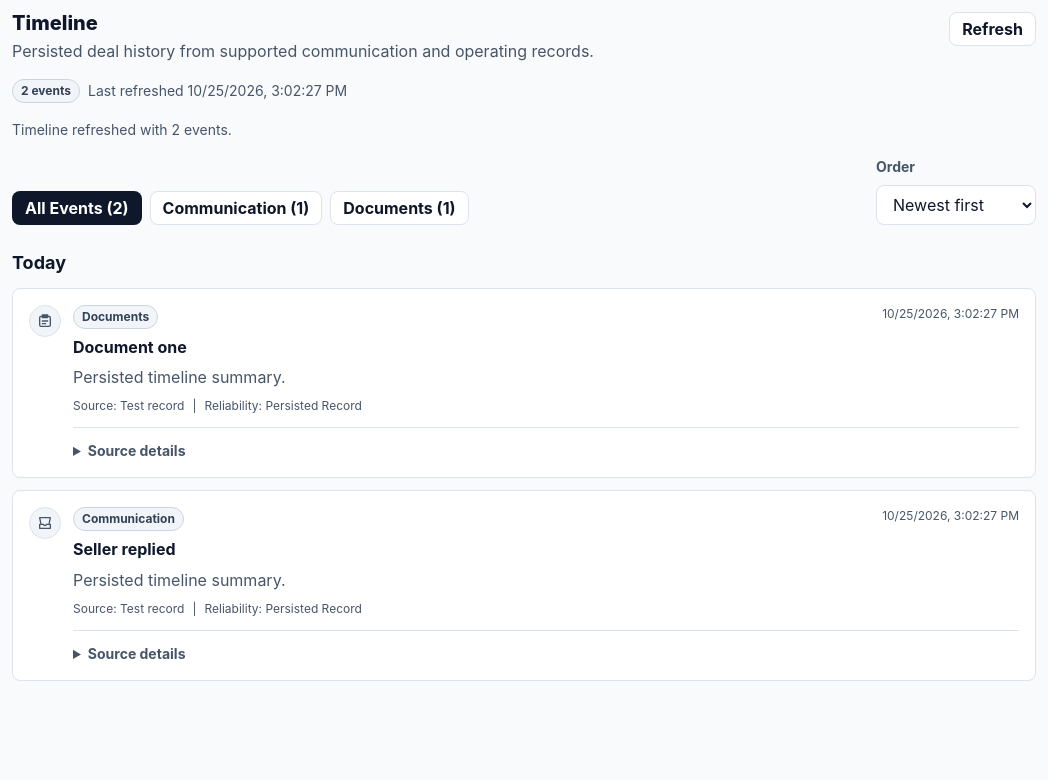
Test case: DealTimeline › refreshes in place and preserves a supported category selection
The image size is (1048, 780).
Click the button "Documents (1)".
click(399, 208)  # box [330,191,469,225]
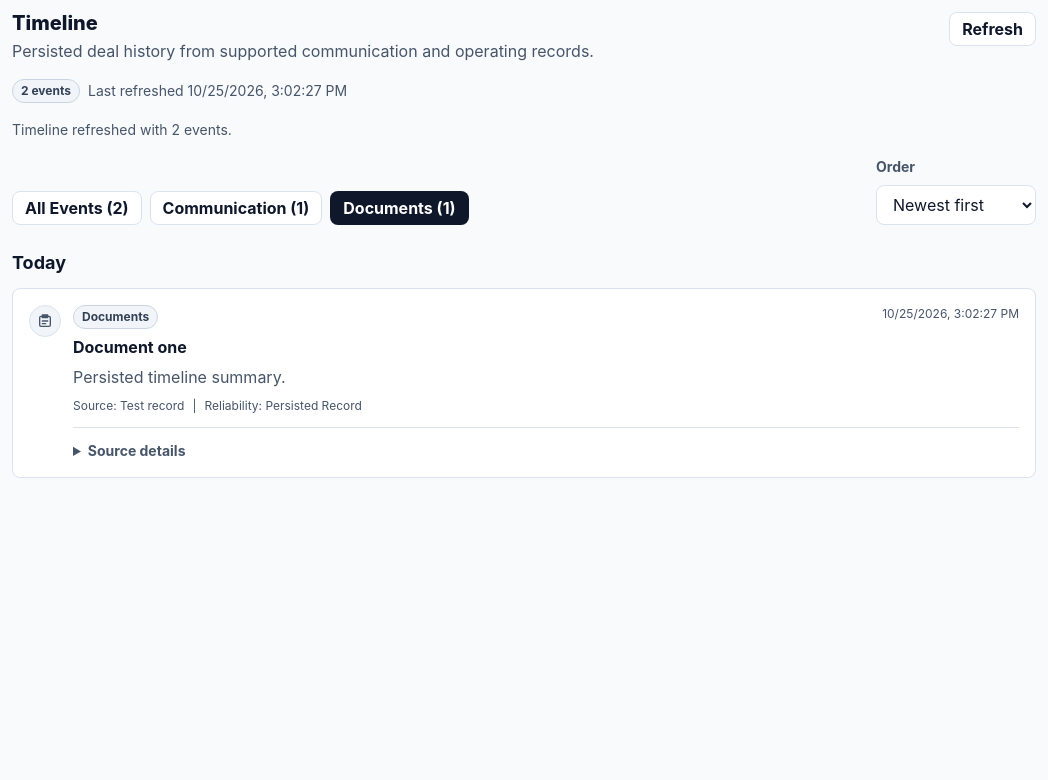
Check: the heading "Document one" is shown, box [73,337,187,357]
Click the button with aria-label "Refresh deal timeline".
click(993, 29)  # box [949,12,1036,46]
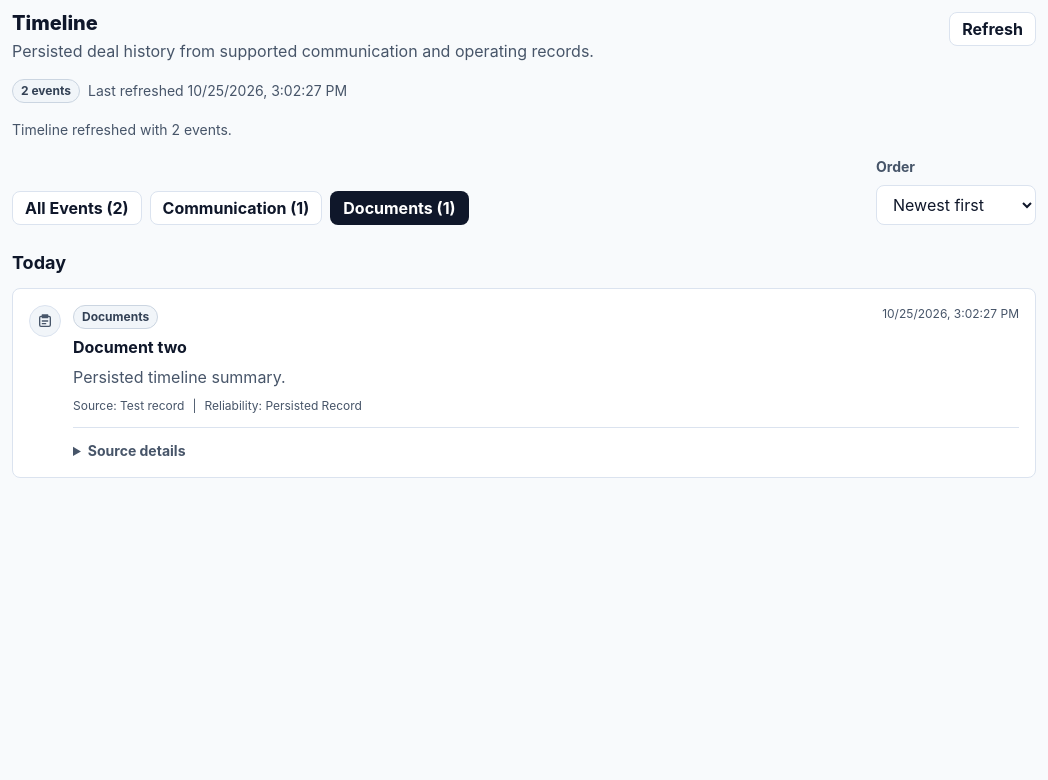
Check: the heading "Document two" is shown, box [73,337,187,357]
